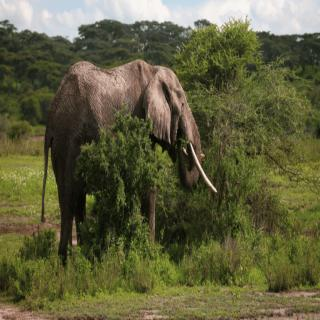Elephant: (38, 53, 218, 278)
